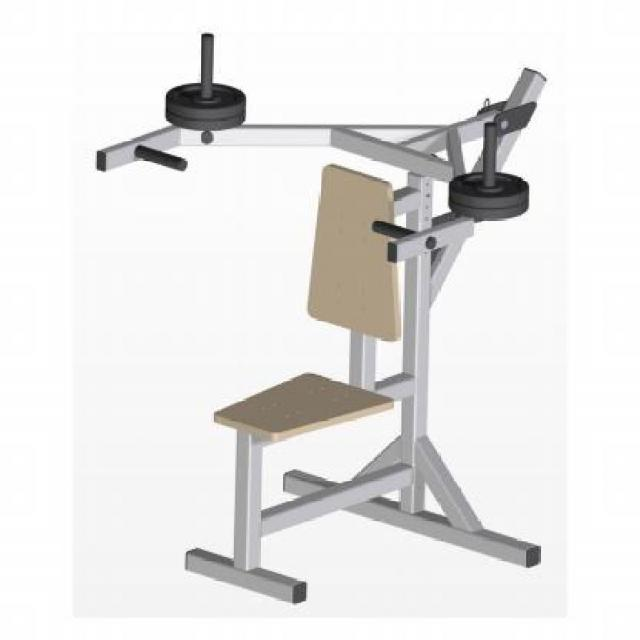shoulder press machine: (43, 19, 617, 618)
